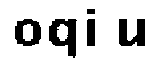i: (83, 6, 101, 51)
o: (9, 17, 43, 49)
q: (45, 17, 78, 60)
u: (115, 17, 148, 52)
